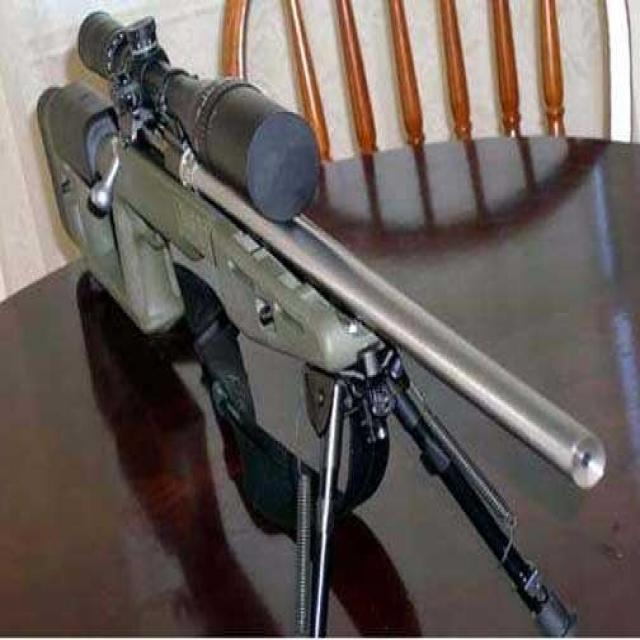weapon: (32, 51, 622, 553)
